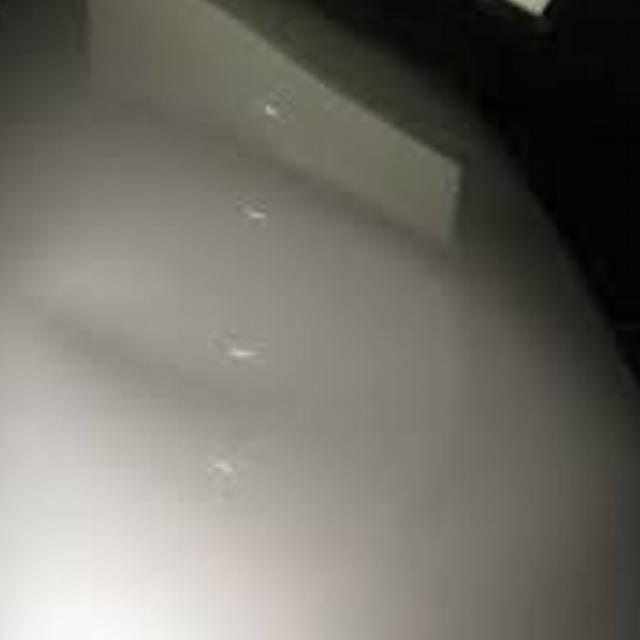dents: (30, 249, 290, 470)
